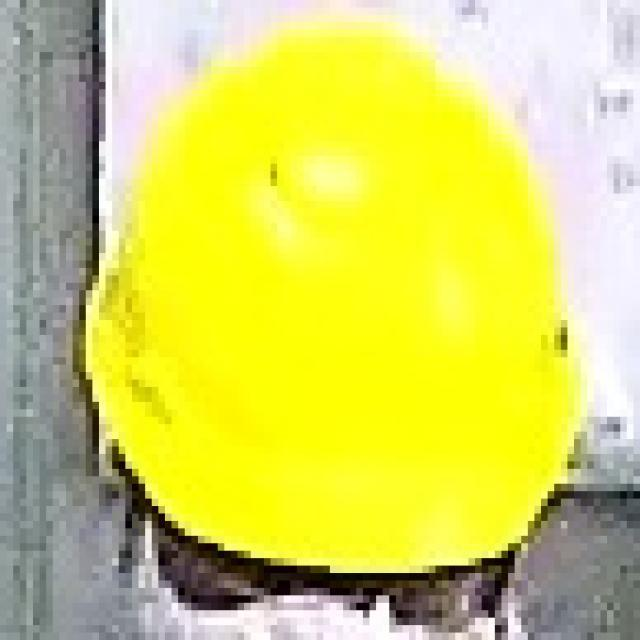yellow helmet: (83, 12, 586, 579)
